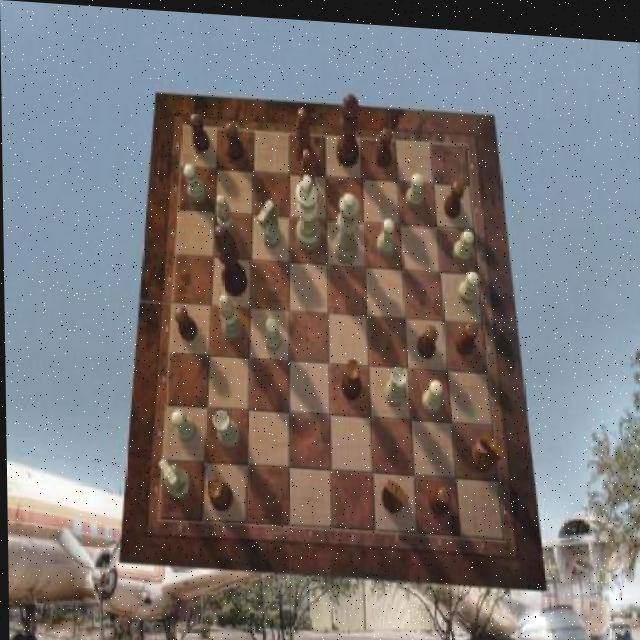bishop: (299, 145, 318, 202), (295, 103, 313, 162)
black-bishop: (213, 222, 247, 293)
black-king: (469, 424, 505, 466), (381, 472, 407, 508)
black-knight: (454, 314, 478, 350), (443, 174, 465, 213), (174, 303, 197, 340), (189, 110, 209, 151), (415, 318, 437, 354), (427, 479, 450, 511), (375, 123, 393, 163), (226, 120, 244, 159)
black-pawn: (336, 88, 360, 163)
black-queen: (204, 475, 232, 510), (341, 353, 361, 396)
black-rook: (219, 292, 243, 340), (216, 191, 237, 245)
white-bishop: (296, 171, 321, 248)
white-king: (157, 455, 190, 497), (258, 195, 281, 245)
white-knight: (183, 160, 206, 200), (171, 407, 196, 441), (457, 263, 479, 298), (452, 222, 474, 257), (421, 372, 442, 407), (376, 212, 394, 250), (262, 312, 280, 348), (405, 167, 423, 203)
white-pawn: (332, 188, 360, 259)
white-queen: (212, 408, 240, 447), (384, 361, 407, 403)
